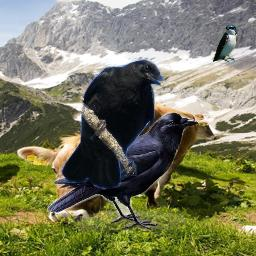Crow: (47, 112, 198, 232), (61, 59, 167, 190)
Swallow: (213, 24, 238, 63)
